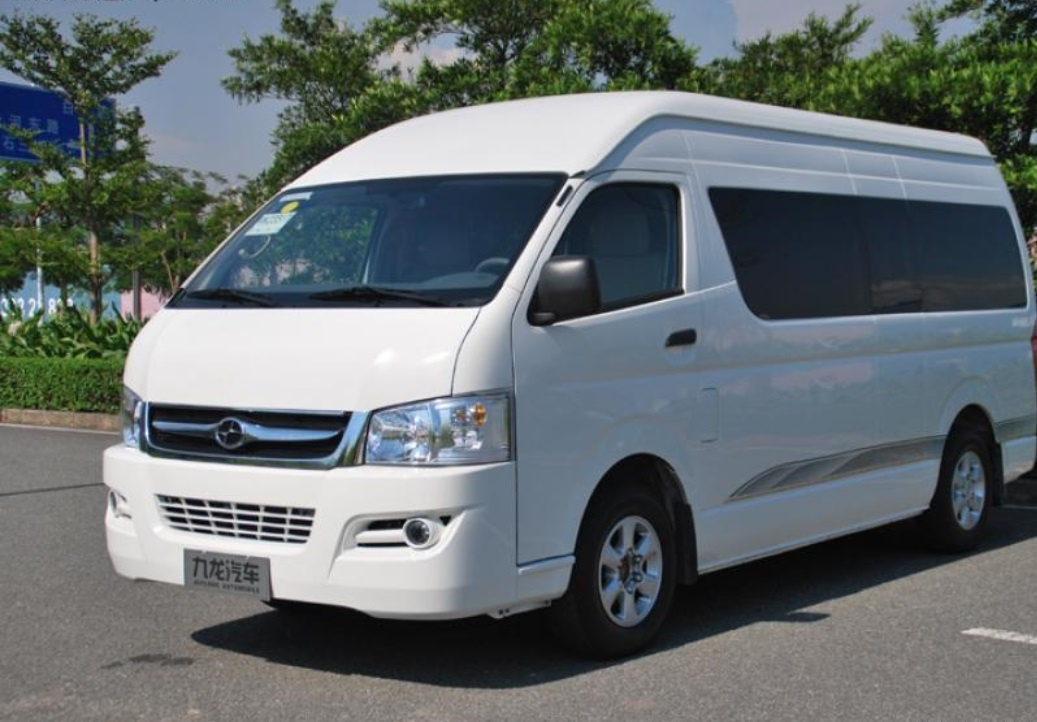minibus: (121, 81, 1037, 615)
